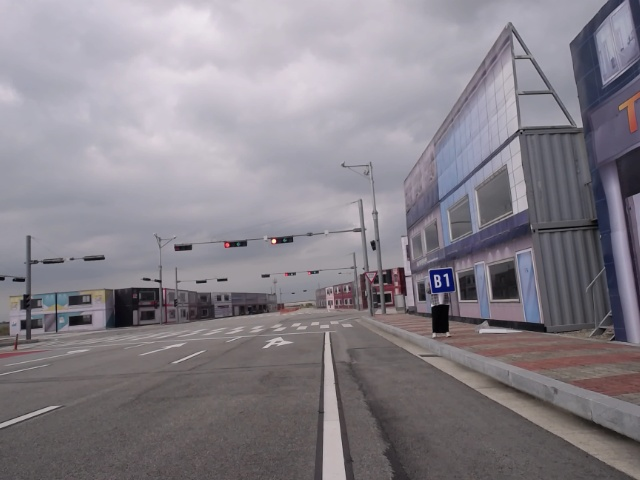delivery_b1: (428, 267, 456, 294)
left_green_4: (224, 240, 248, 248), (271, 236, 294, 244), (285, 272, 296, 276), (308, 271, 319, 275)
